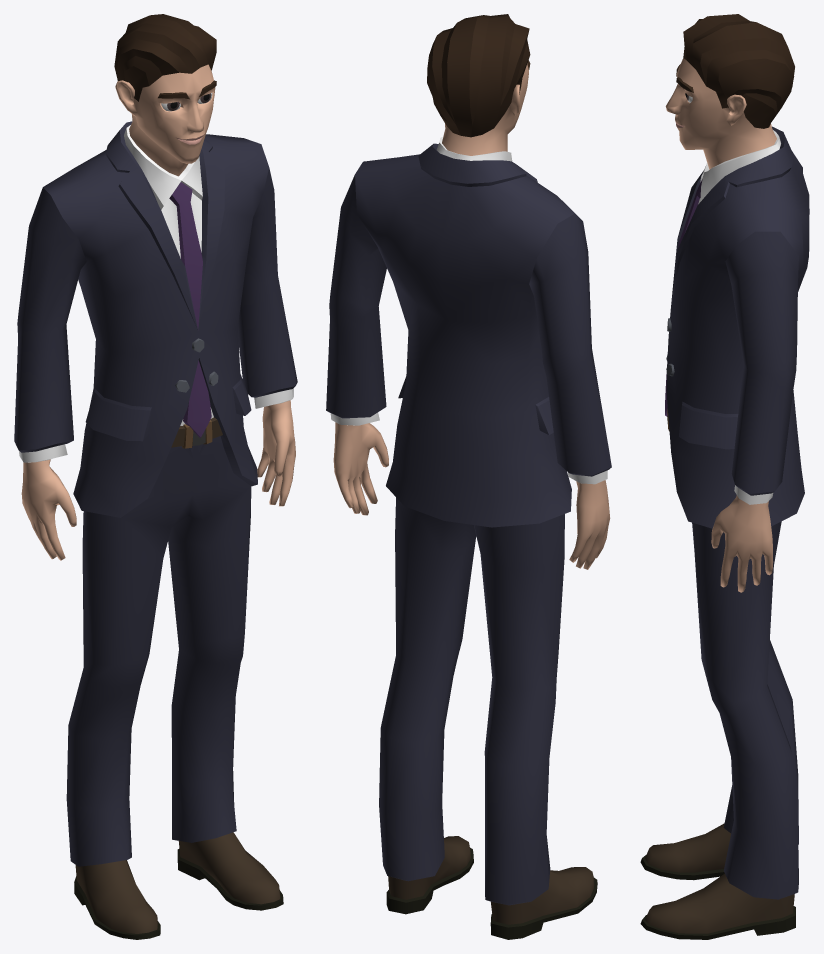
Rendered from man_in_suit_react.glb.
The picture shows the model from 3 angles, left to right: view 1: azimuth 30°, elevation 25°; view 2: azimuth 150°, elevation 25°; view 3: azimuth 270°, elevation 25°; orthographic projection.
Parts seen in each view (by area): view 1: man_in_suit; view 2: man_in_suit; view 3: man_in_suit.
Part boxes in pixels (left/top/right/bottom): man_in_suit: left=14, top=14, right=297, bottom=939; man_in_suit: left=326, top=14, right=611, bottom=939; man_in_suit: left=640, top=14, right=809, bottom=939.
Size of what is drawn, in the model's own units: 59.45 by 178 by 31.12.
